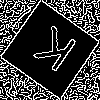K: (25, 24, 79, 82)
